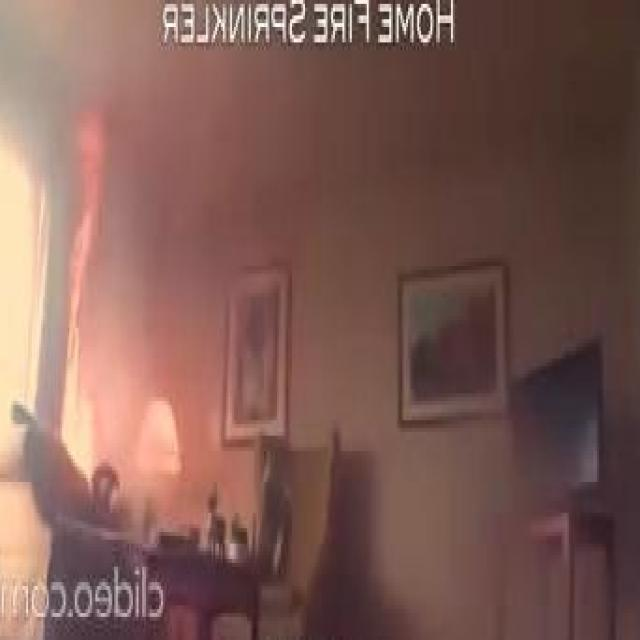smoke: (61, 100, 112, 470)
